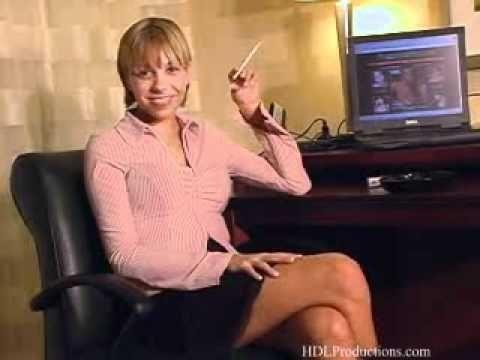cigarette: (231, 40, 263, 80)
